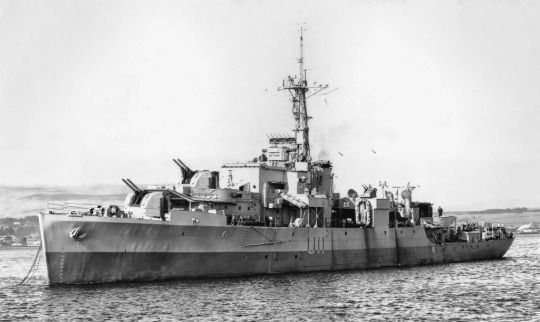ship: (38, 16, 530, 302)
